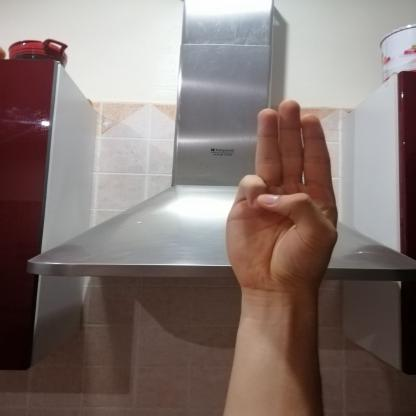THA: (209, 92, 354, 300)
